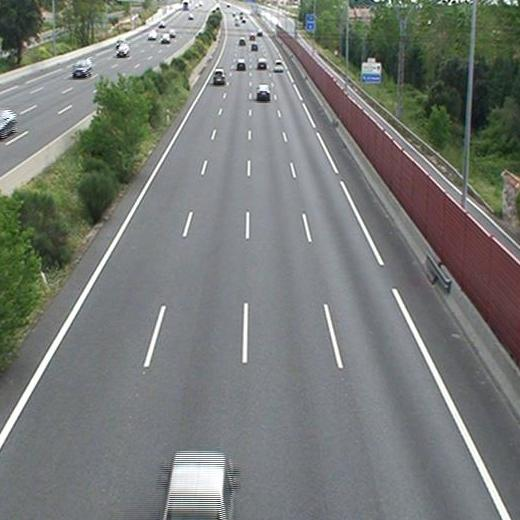car: (163, 454, 234, 520), (214, 69, 226, 83), (258, 85, 269, 99), (273, 60, 284, 71), (256, 58, 267, 68), (236, 60, 245, 69), (251, 42, 258, 52), (238, 37, 245, 46)
